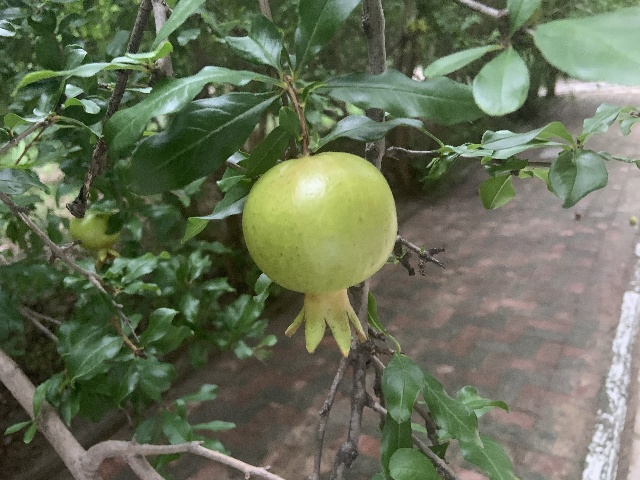mid-growth: (241, 150, 398, 356), (70, 210, 120, 266)
